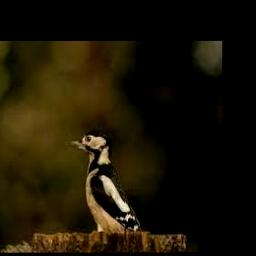Woodpecker: (69, 131, 142, 232)
